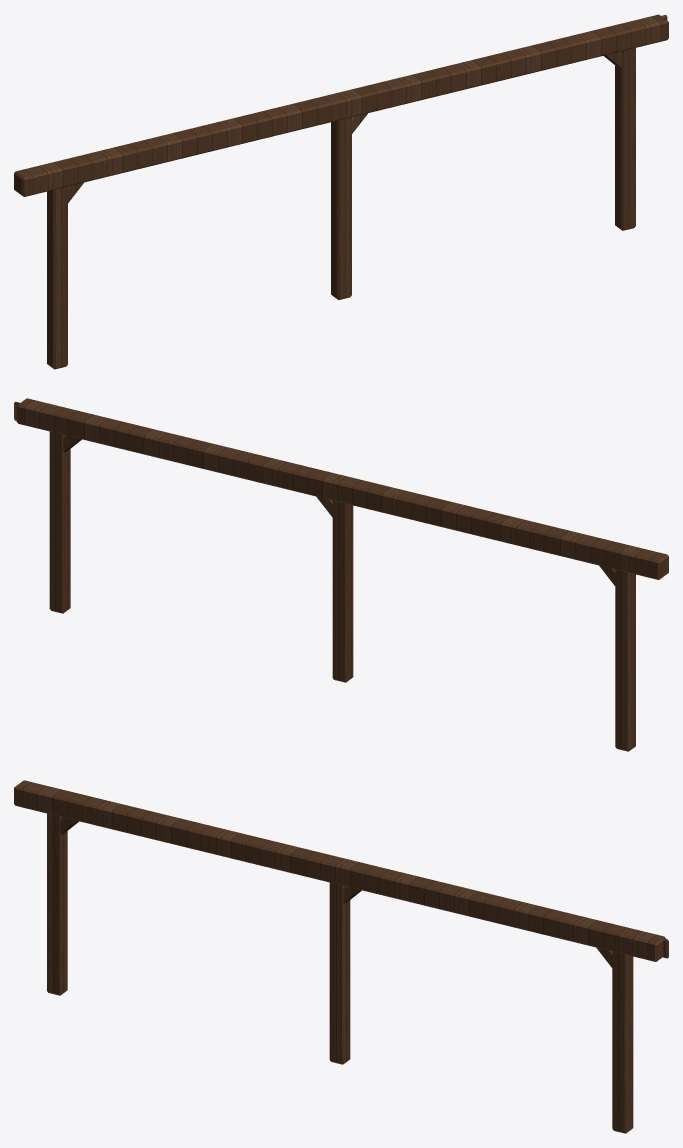
Rendered from SM_HH_V2_InteriorBeams_CameraSide.fbx.
The picture shows the model from 3 angles, top to bottom: view 1: azimuth 30°, elevation 25°; view 2: azimuth 150°, elevation 25°; view 3: azimuth 330°, elevation 25°; orthographic projection.
Visible parts, largest first — view 1: HH_V2_InteriorBeams_CameraSide; view 2: HH_V2_InteriorBeams_CameraSide; view 3: HH_V2_InteriorBeams_CameraSide.
Boxes of the visible parts, <box> form: HH_V2_InteriorBeams_CameraSide: <box>14,14,668,369</box>; HH_V2_InteriorBeams_CameraSide: <box>14,398,668,751</box>; HH_V2_InteriorBeams_CameraSide: <box>14,780,668,1133</box>.
Bounding box in the file's own units: 0.24 × 8.71 × 2.57.
